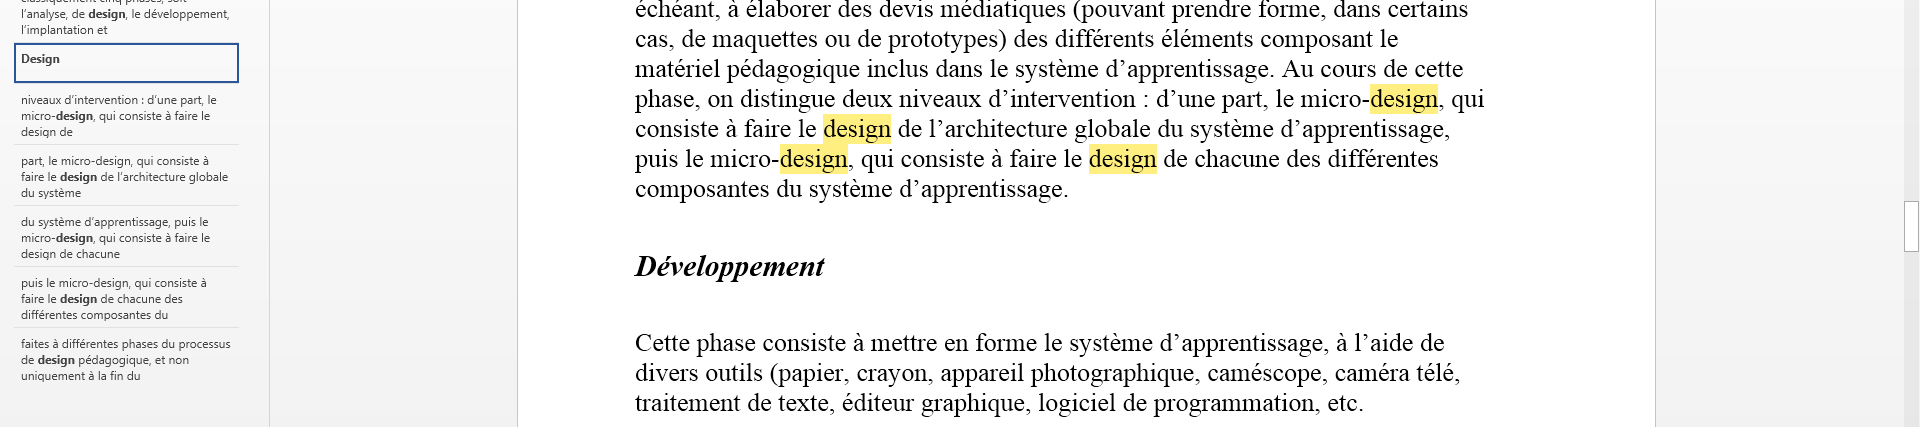texte: (634, 254, 825, 281), (1300, 84, 1442, 114), (1106, 59, 1273, 83), (1281, 119, 1449, 143), (1161, 333, 1329, 357), (900, 179, 1067, 203), (1153, 393, 1319, 417), (1031, 363, 1199, 387), (727, 59, 860, 83), (636, 181, 769, 203), (940, 0, 1065, 23), (888, 29, 1007, 53), (1209, 363, 1327, 387), (922, 393, 1030, 417), (989, 89, 1136, 106), (931, 119, 1067, 137), (1261, 31, 1373, 53), (713, 31, 817, 53), (741, 89, 835, 113), (1074, 0, 1164, 23), (1089, 144, 1157, 174), (1016, 59, 1098, 83), (1191, 119, 1273, 143), (811, 179, 891, 203), (1071, 333, 1152, 357), (940, 363, 1024, 387), (636, 393, 740, 411), (1329, 149, 1438, 166), (1040, 393, 1116, 417), (1172, 0, 1251, 23), (1075, 119, 1150, 143), (1056, 29, 1153, 46), (1162, 29, 1253, 46), (636, 0, 720, 18), (636, 59, 720, 77), (636, 119, 718, 137), (763, 333, 845, 351), (636, 89, 699, 113), (771, 363, 834, 387), (747, 0, 831, 17), (1195, 149, 1280, 166), (697, 333, 756, 357), (899, 89, 981, 106), (902, 149, 984, 166), (1259, 0, 1325, 21), (842, 393, 913, 411), (858, 369, 932, 387), (1336, 363, 1409, 381), (1389, 2, 1467, 17), (711, 149, 778, 166), (868, 59, 928, 77), (976, 333, 1036, 351), (636, 363, 698, 381), (1356, 333, 1413, 351), (871, 335, 937, 351), (778, 395, 834, 414), (1157, 89, 1215, 106), (636, 149, 677, 173), (707, 363, 762, 381), (1417, 363, 1460, 385), (1222, 92, 1267, 113), (636, 334, 689, 351), (84, 218, 168, 229), (880, 0, 933, 17), (22, 111, 92, 124), (936, 59, 982, 77), (158, 9, 227, 21), (842, 89, 891, 106), (744, 119, 790, 137), (1333, 0, 1380, 17), (22, 24, 93, 35), (1010, 149, 1056, 166), (1416, 61, 1463, 77), (1452, 89, 1484, 113), (862, 149, 893, 173), (1321, 65, 1376, 77), (65, 95, 137, 104), (22, 372, 84, 382), (60, 281, 129, 290), (81, 311, 140, 321), (1014, 29, 1047, 46), (1287, 149, 1320, 166), (839, 0, 871, 17), (22, 310, 77, 319), (1329, 395, 1362, 411), (22, 9, 65, 21), (1282, 60, 1313, 77), (89, 9, 127, 21), (22, 54, 59, 66), (1158, 119, 1183, 137), (778, 179, 802, 197), (61, 294, 97, 306), (1384, 59, 1407, 77), (1420, 333, 1444, 351), (748, 393, 771, 411), (118, 294, 160, 303), (636, 35, 673, 46), (899, 119, 921, 137), (1124, 393, 1146, 411), (682, 29, 705, 46), (858, 29, 880, 46), (1164, 149, 1187, 166), (22, 127, 55, 138), (22, 250, 55, 261), (77, 250, 119, 258), (120, 234, 160, 242), (991, 59, 1008, 77), (1044, 333, 1062, 351), (120, 113, 160, 120), (1381, 29, 1398, 46), (1276, 89, 1293, 106), (686, 149, 703, 166), (1064, 149, 1081, 166), (800, 119, 816, 137), (945, 339, 969, 351), (708, 95, 733, 106), (827, 35, 850, 46), (181, 95, 203, 106), (64, 236, 92, 245), (110, 362, 119, 390), (22, 98, 61, 104), (21, 294, 44, 303), (175, 232, 197, 242), (1337, 333, 1348, 351), (175, 111, 197, 120), (992, 149, 1003, 166), (853, 333, 863, 351), (175, 220, 195, 229), (22, 281, 42, 290), (729, 0, 738, 17), (727, 119, 736, 137), (100, 114, 115, 124), (100, 236, 115, 245), (135, 281, 149, 290), (72, 9, 84, 18), (100, 294, 113, 303), (158, 98, 176, 104), (60, 127, 72, 136), (60, 250, 72, 258), (141, 84, 144, 113), (200, 217, 208, 226), (202, 232, 211, 242), (47, 278, 55, 288), (97, 371, 105, 381), (98, 26, 107, 34), (202, 111, 211, 120), (88, 362, 91, 390), (165, 102, 168, 128), (135, 12, 140, 18), (211, 98, 216, 104), (51, 297, 56, 303), (1145, 95, 1147, 106), (849, 165, 853, 170), (156, 281, 159, 288)
